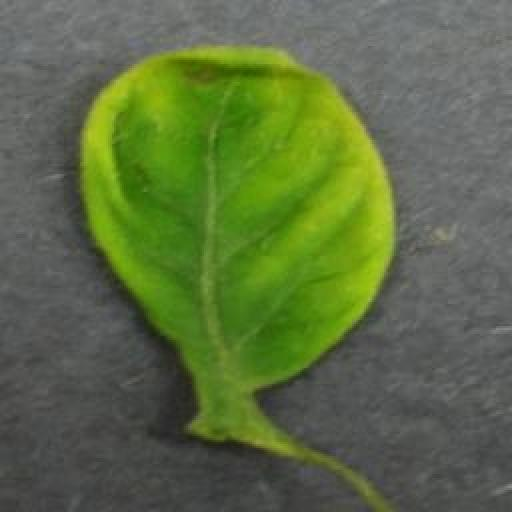disease_tomato: (76, 47, 390, 389)
